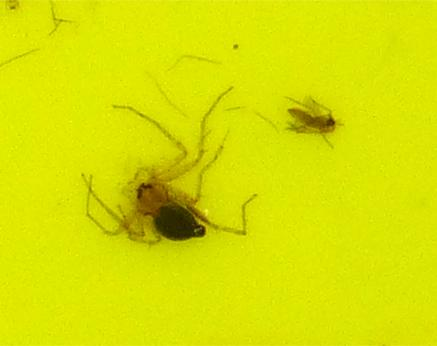Araneae: (100, 137, 223, 246)
Nematocera: (282, 100, 337, 138)
